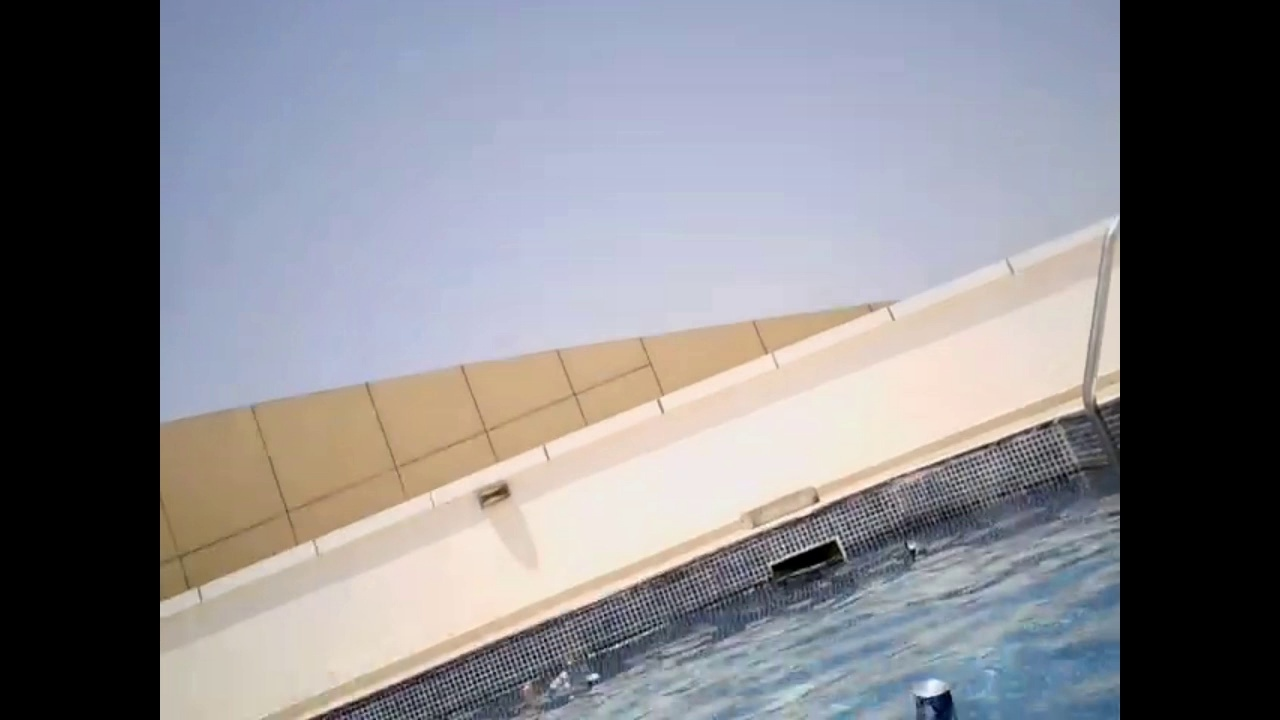debris: (902, 670, 961, 719), (545, 671, 572, 694), (898, 537, 922, 558), (515, 683, 540, 700), (581, 668, 603, 686)
